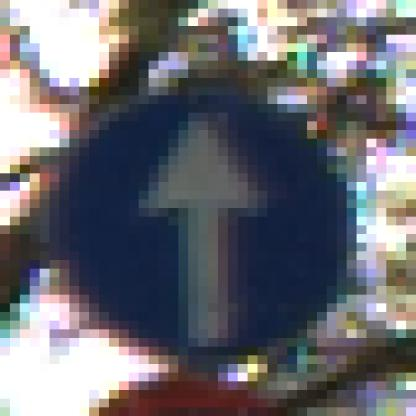AheadOnly: (51, 53, 358, 374)
